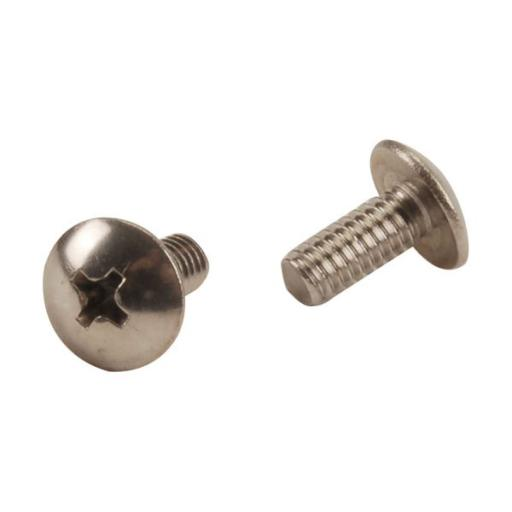Phillips: (46, 216, 182, 374)
